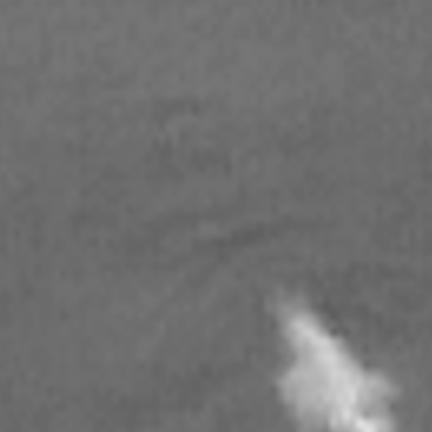flukeprints: (273, 291, 400, 431)
